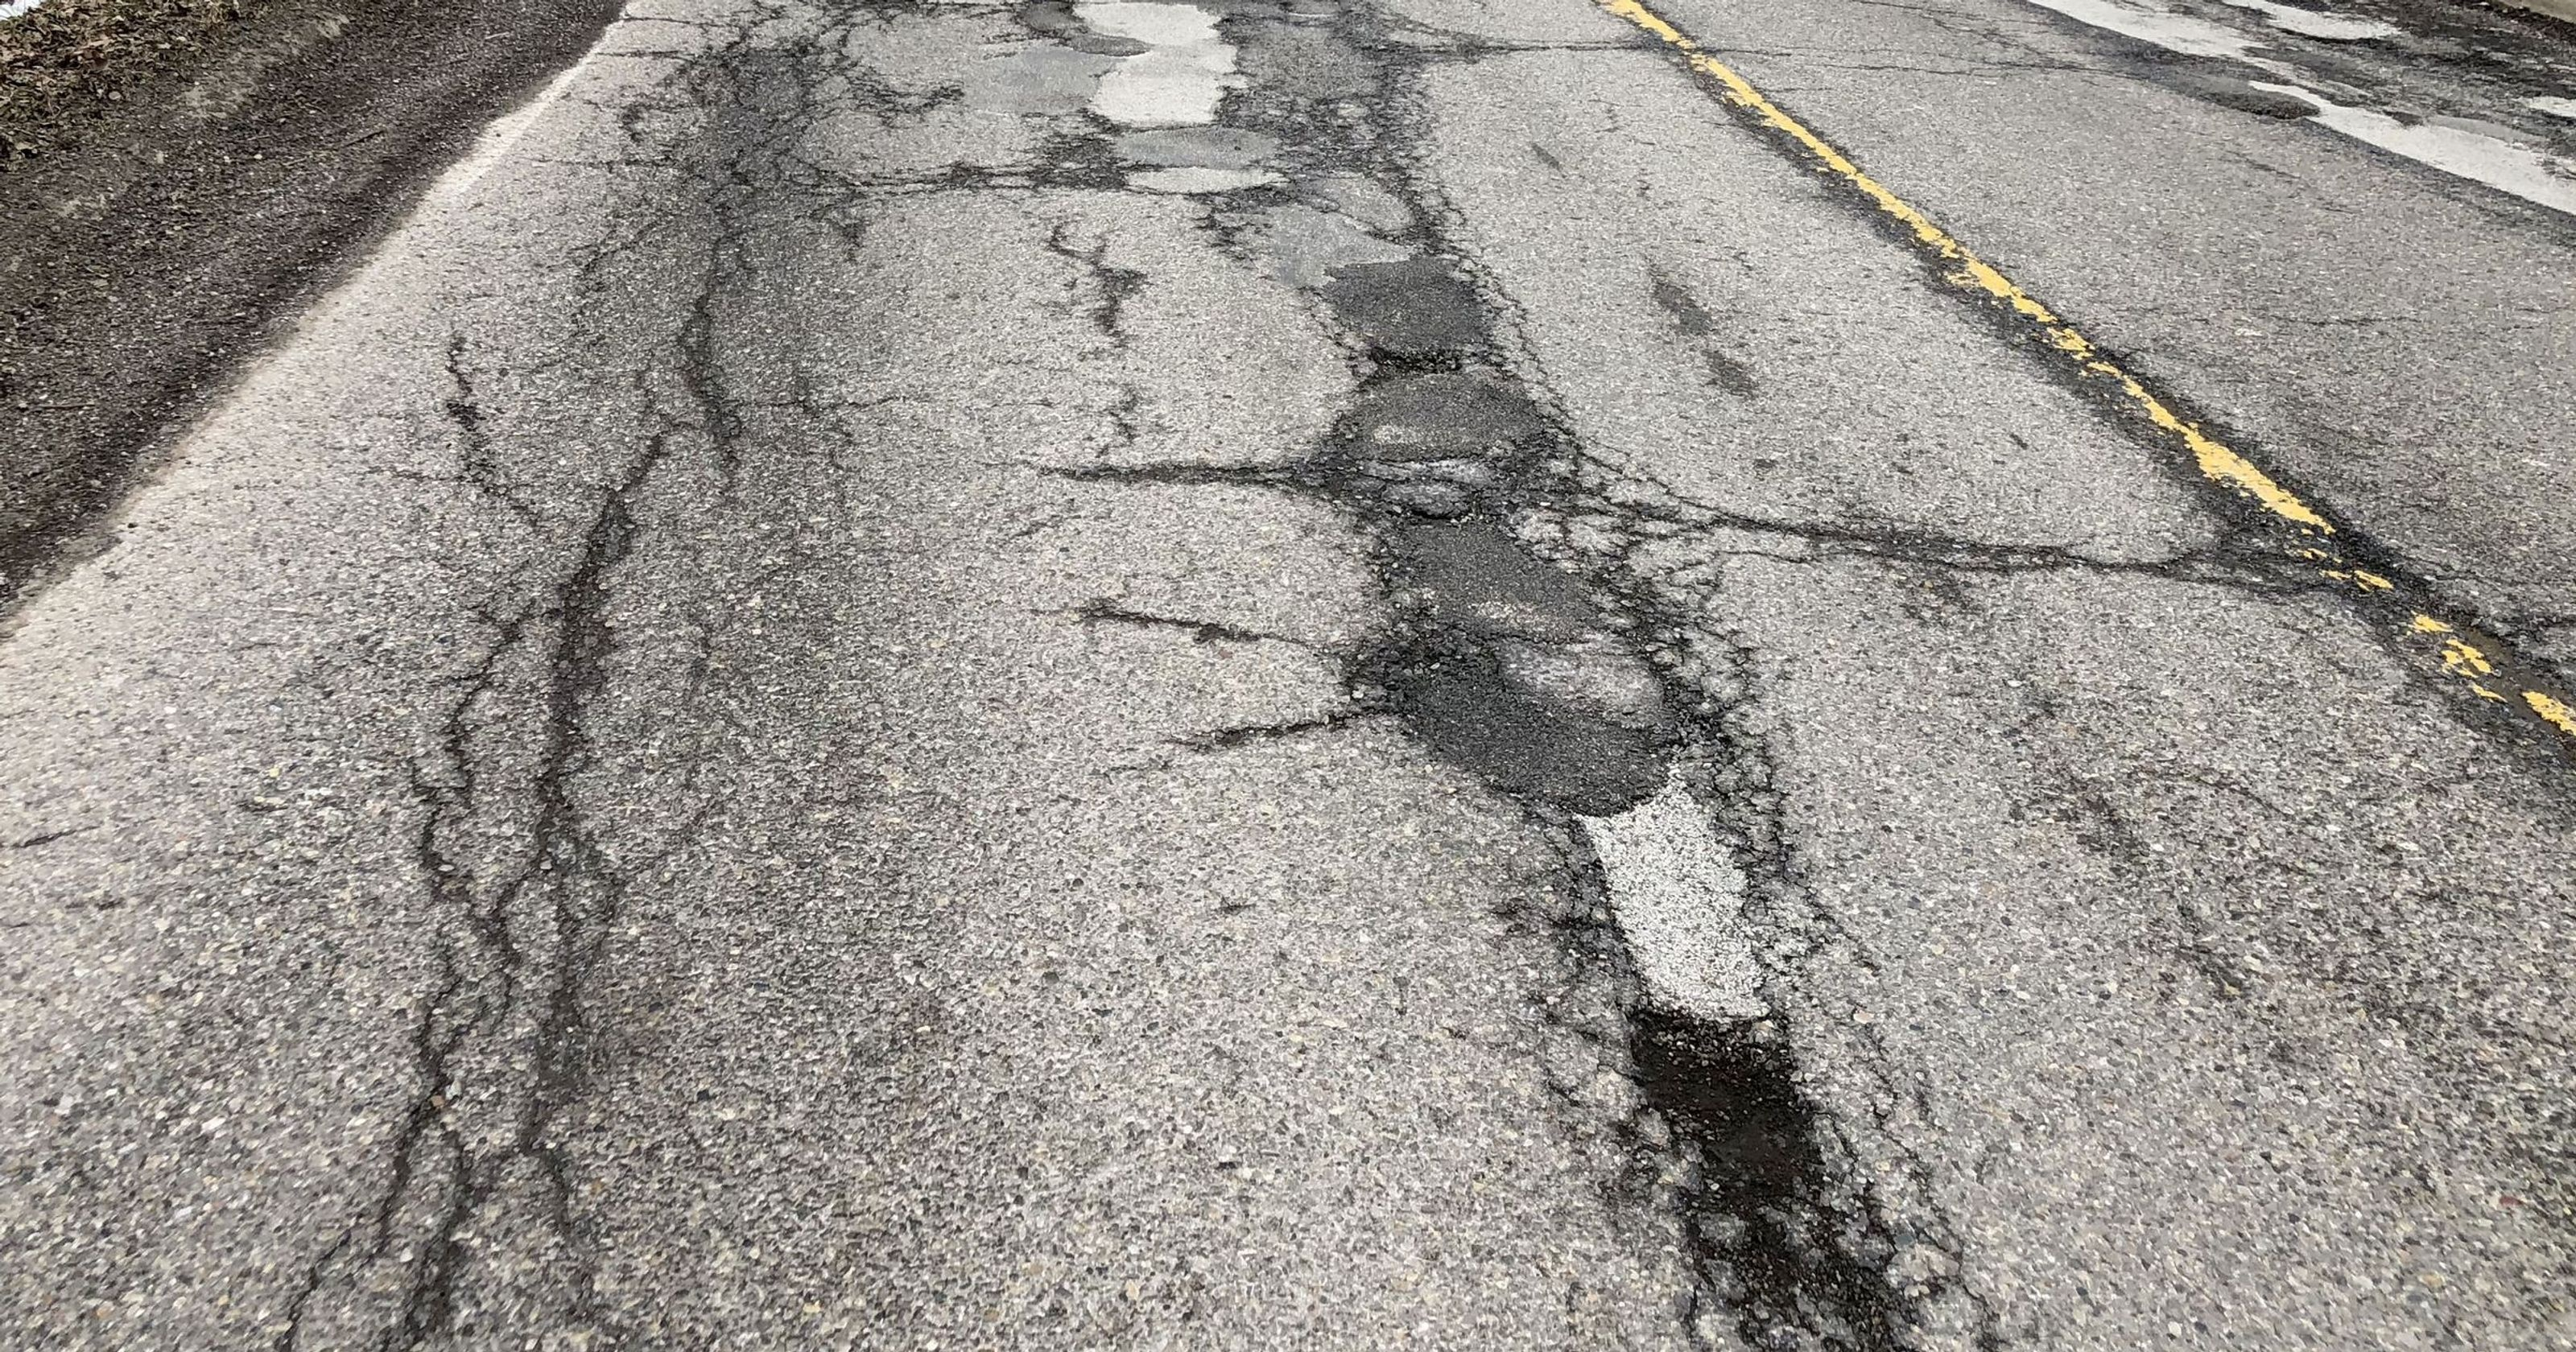pothole: (1619, 1018, 1956, 1340)
